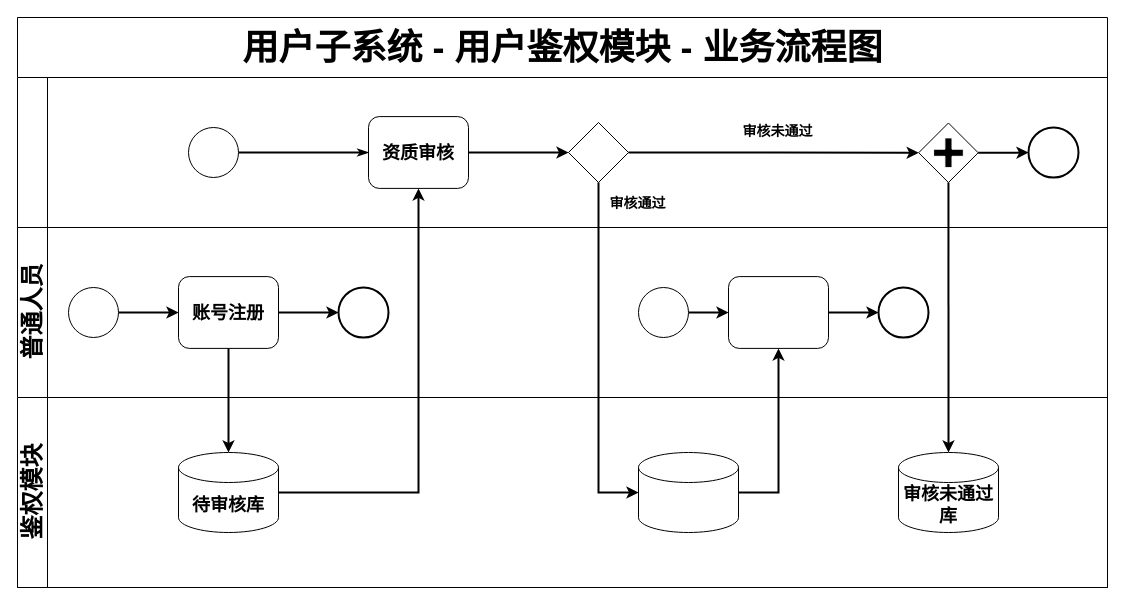
Image size: 1125x605. Some labels were removed from this diagram. Here are the shapes that lost their labels. From the top down, the box of each, then its label:
(16, 76, 1108, 228): 系统管理员
(728, 276, 828, 348): 用户登录
(638, 452, 738, 532): 用户信息库
